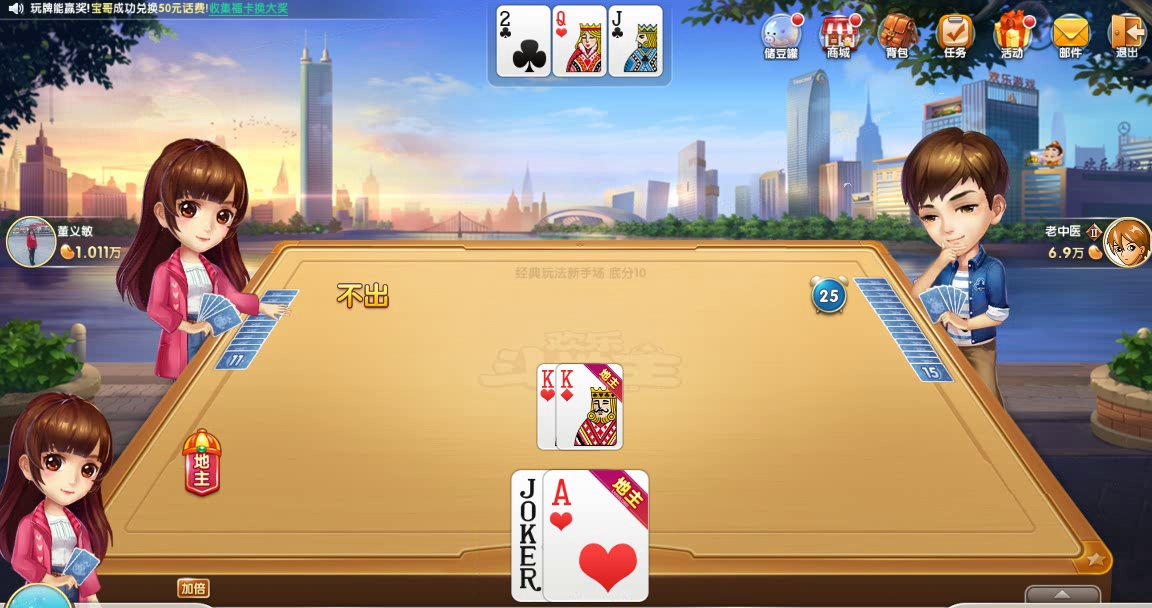11~2: (607, 4, 662, 77)
12~3: (551, 4, 606, 77)
13~1: (555, 361, 623, 450)
13~3: (537, 361, 605, 450)
14~3: (543, 469, 649, 600)
15~2: (495, 4, 550, 77)
17~3: (510, 470, 616, 601)
